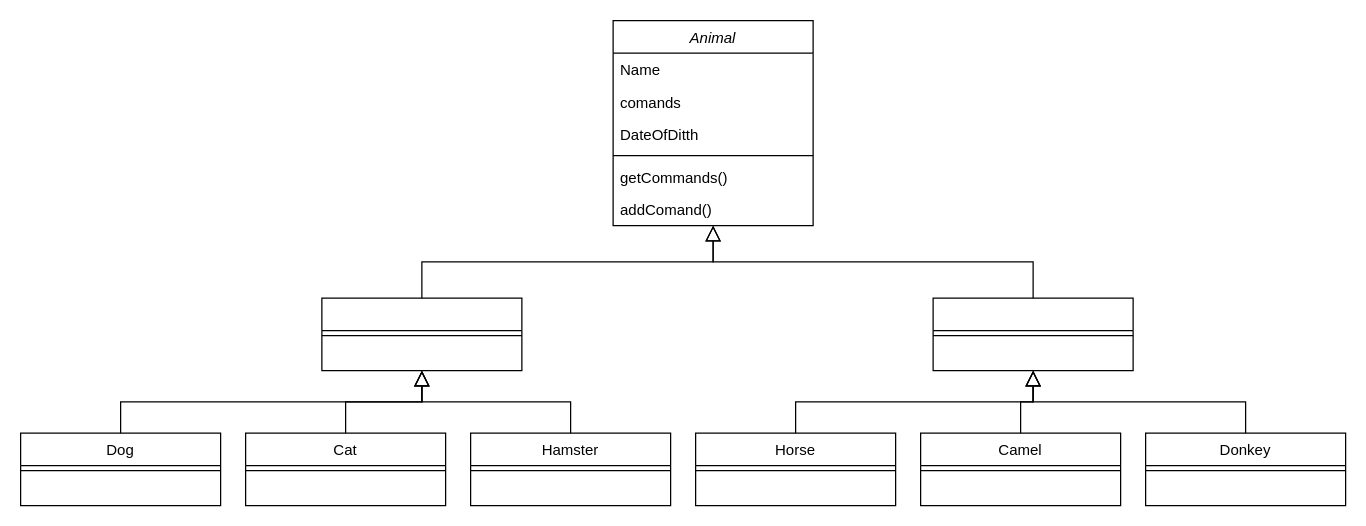
Some shapes in this 1366 by 526 pixel diagram are drawn without their labels. Each missing label, with the centre of its shape:
HomeAnimal: (421,334)
PackAnimal: (1032,334)
